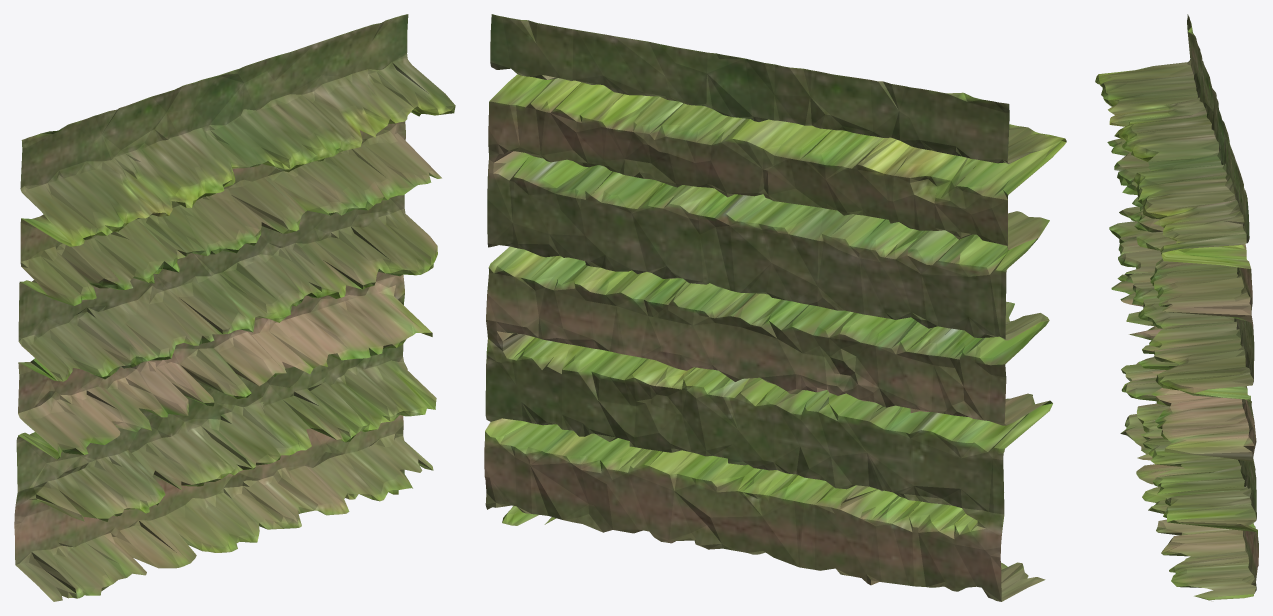
File: map_210_50.obj
3 renders of one model, left to right at view 1: azimuth 30°, elevation 25°; view 2: azimuth 150°, elevation 25°; view 3: azimuth 270°, elevation 25°, orthographic. The views are drawn at different scales.
Parts seen in each view (by area): view 1: grp1; view 2: grp1; view 3: grp1.
Boxes of the visible parts, x1,y1,x2,y2 form: grp1: (14, 14, 455, 601); grp1: (484, 14, 1066, 601); grp1: (1095, 14, 1258, 600).
Size of the model in its own units: 10 by 10 by 3.7.
Materials: 1 (1 with a texture image).
